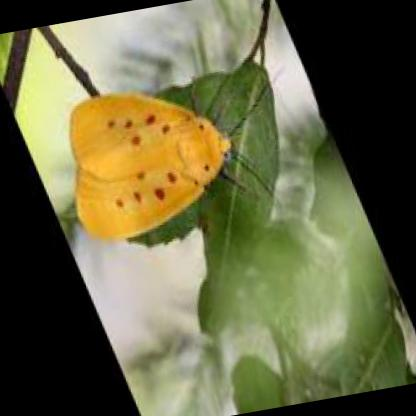Leaf Webber: (68, 94, 239, 244)
